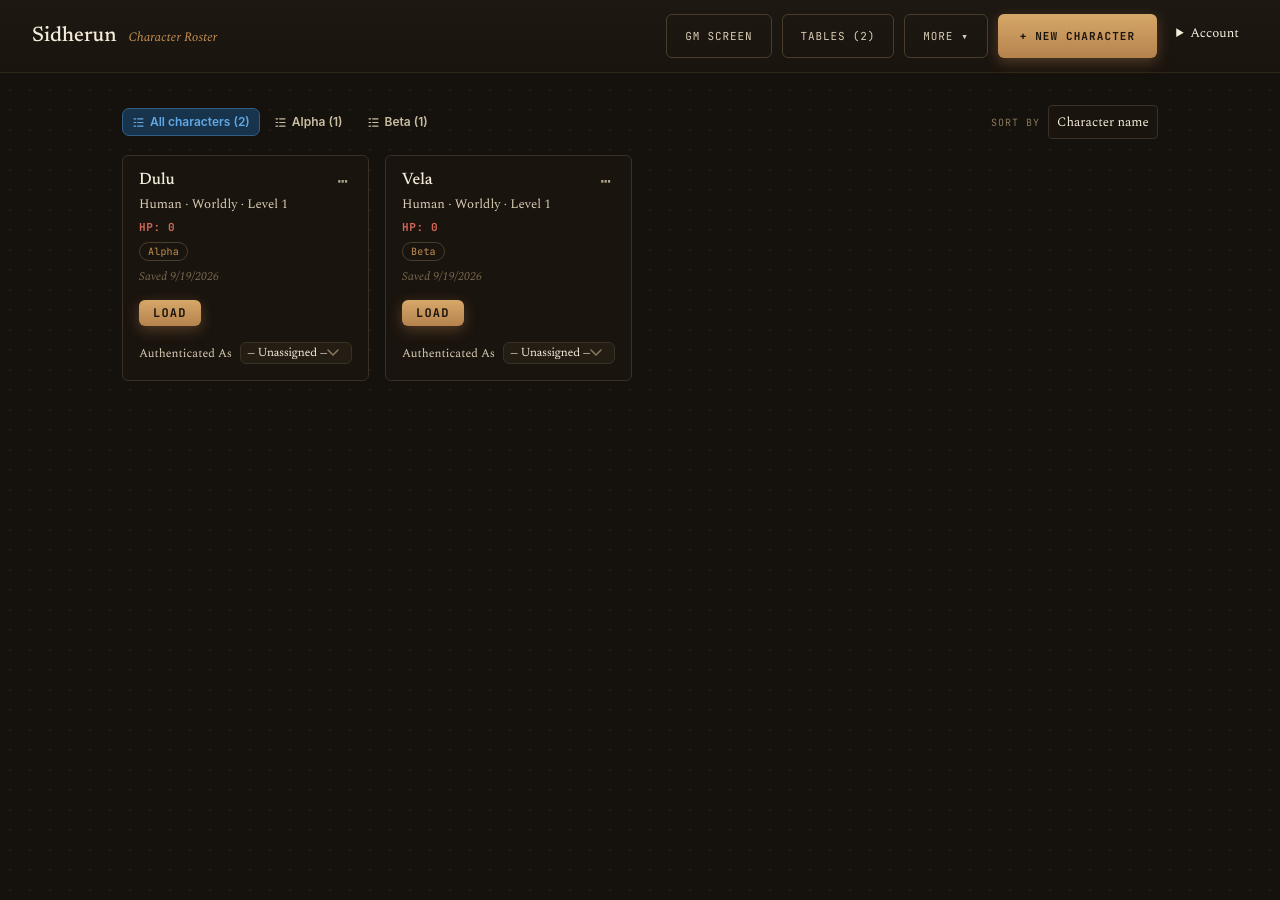
RosterPage authenticated table membership › filters roster cards by table and remembers the choice for the GM screen
This screenshot has width=1280, height=900.
Check: the element showing "All characters (2) Alpha (1) Beta (1)" is shown, box [122,108,438,136]
Click the button "Alpha (1)" at (308, 122), box [264,108,352,136]
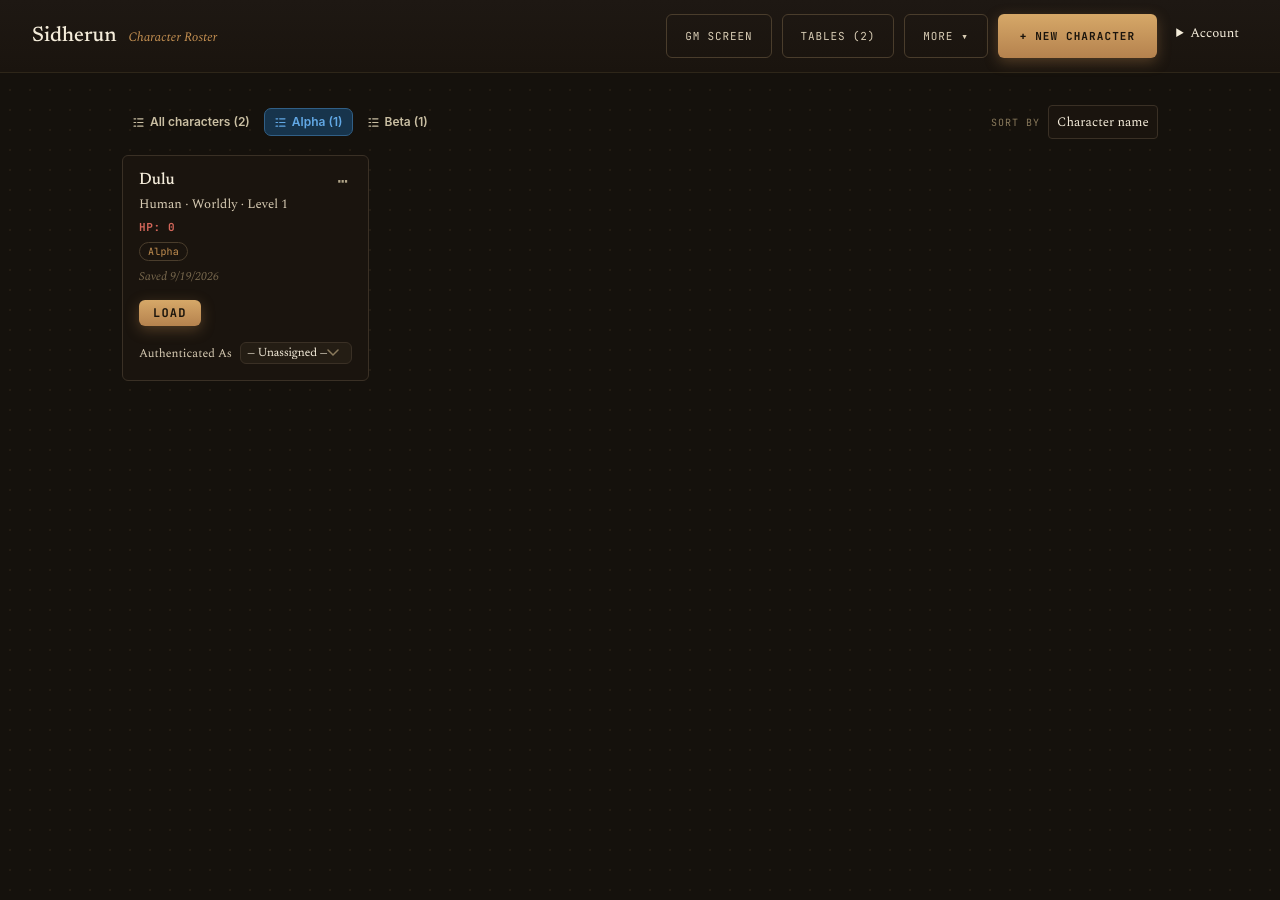
Check: the text "Dulu" is shown, box [139,172,175,188]
Check: the text "Vela" is gone
